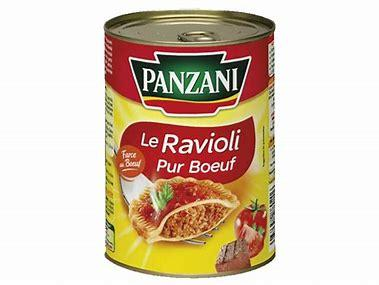metal: (104, 10, 276, 276)
